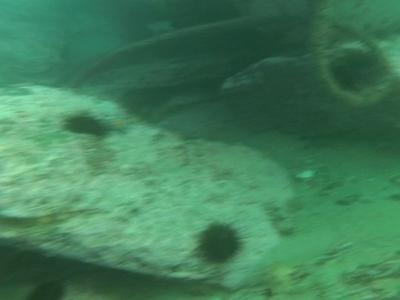urchin: (194, 221, 242, 265), (332, 53, 379, 90), (61, 113, 111, 138)
